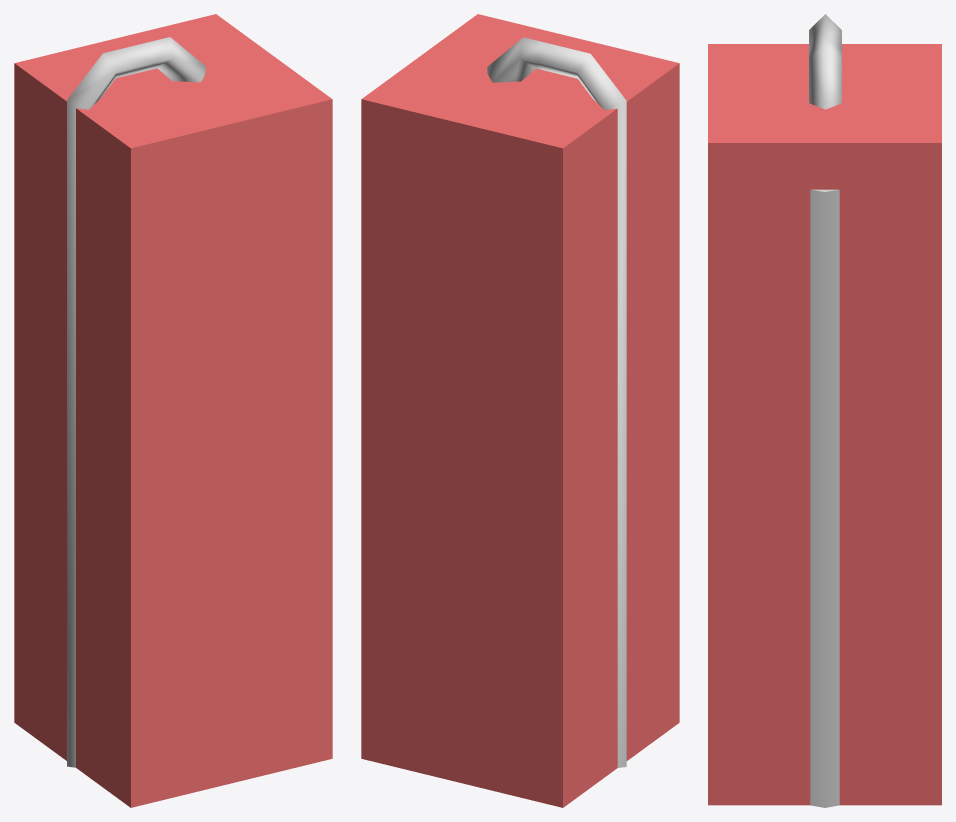
File: prop_tankard.glb
3 renders of one model, left to right at view 1: azimuth 30°, elevation 25°; view 2: azimuth 150°, elevation 25°; view 3: azimuth 270°, elevation 25°, orthographic.
Parts seen in each view (by area): view 1: brush_box.018, prop_tankard; view 2: brush_box.018, prop_tankard; view 3: brush_box.018, prop_tankard.
Boxes of the visible parts, x1,y1,x2,y2 form: brush_box.018: (14, 14, 332, 807); prop_tankard: (67, 37, 205, 767); brush_box.018: (361, 14, 679, 807); prop_tankard: (487, 37, 626, 767); brush_box.018: (708, 44, 941, 805); prop_tankard: (809, 14, 841, 807).
Size of the model in its own units: 0.853 by 2.7 by 0.8097.
